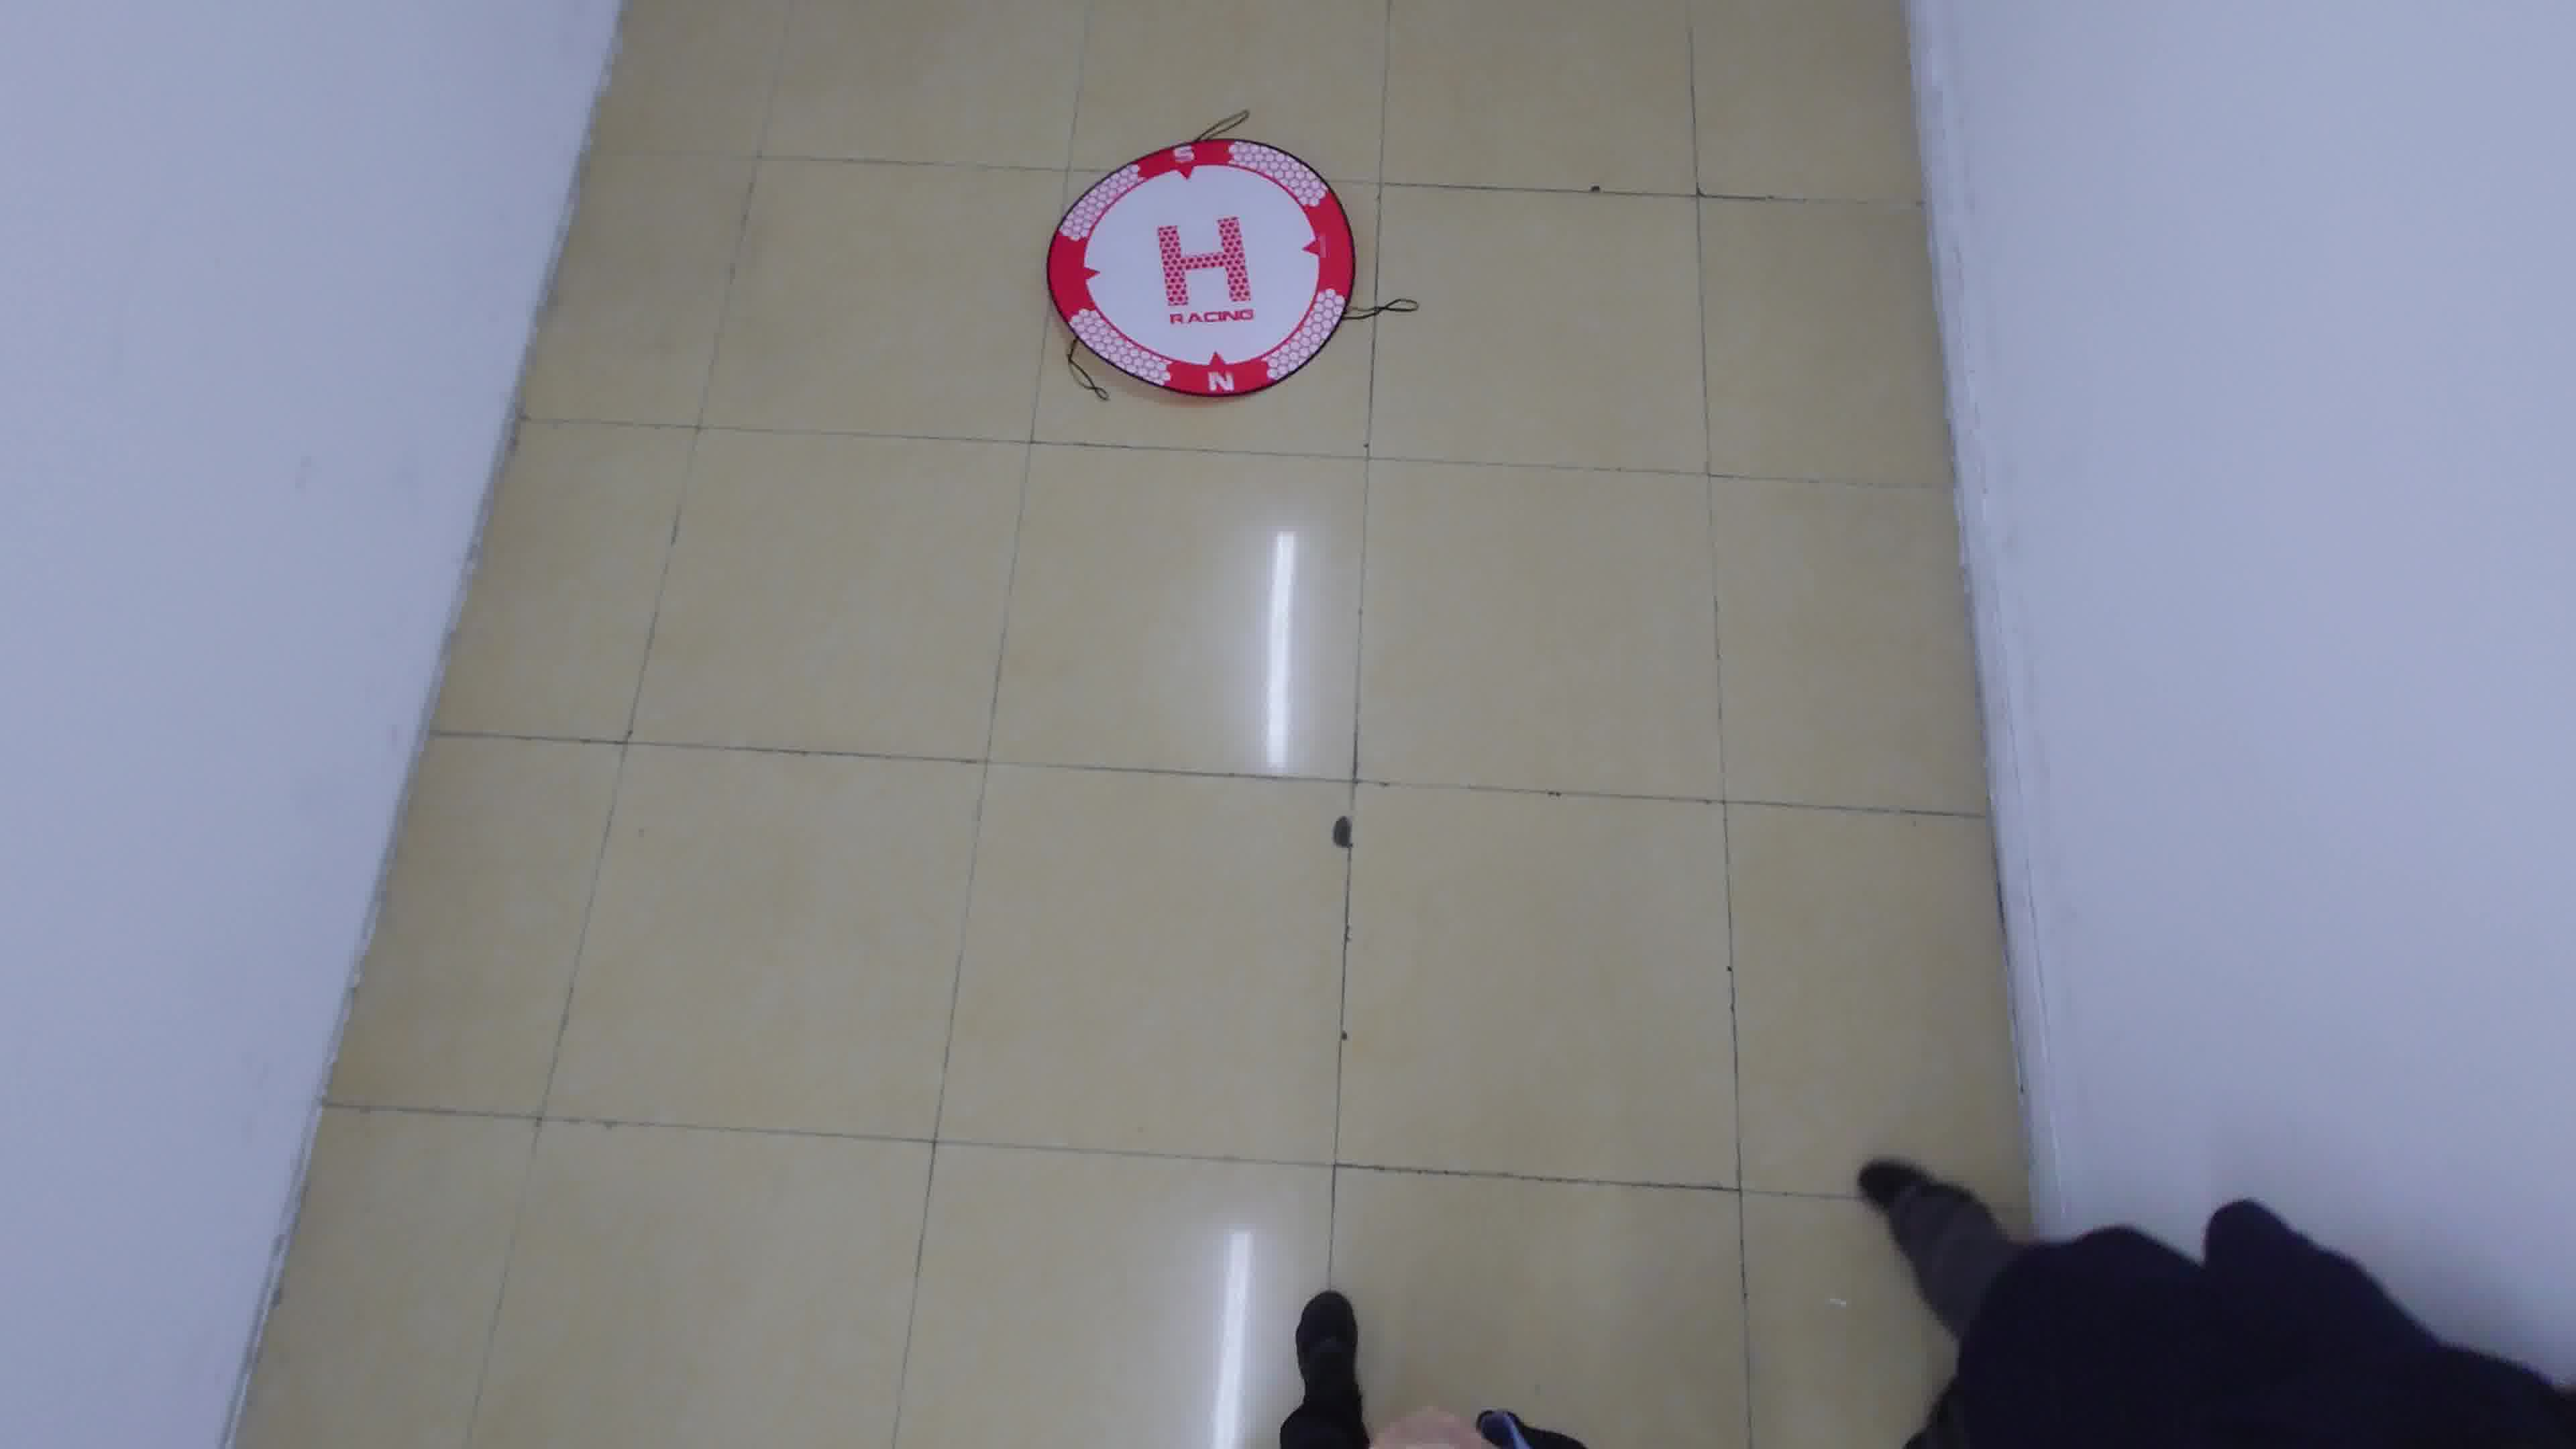H: (1157, 216, 1253, 306)
